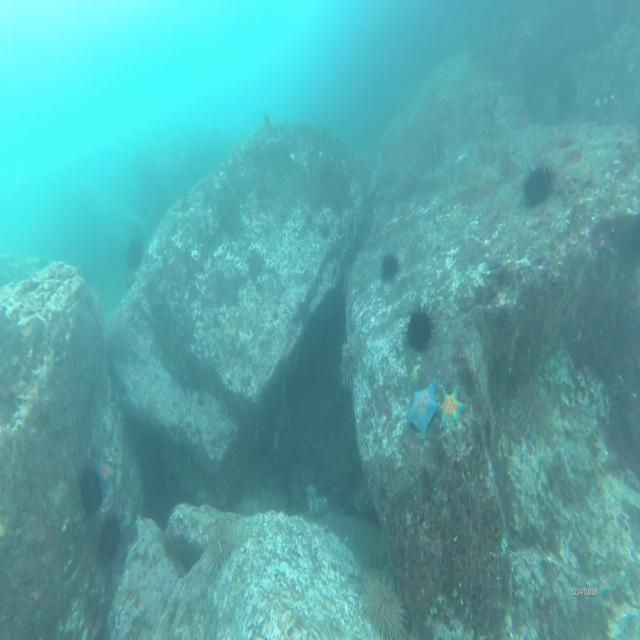echinus: (359, 571, 413, 640), (512, 370, 556, 445), (202, 516, 244, 574), (95, 504, 129, 567), (401, 294, 435, 356), (520, 153, 554, 206), (71, 461, 103, 517), (337, 325, 361, 391), (378, 244, 404, 284), (123, 233, 145, 276)
starfish: (406, 375, 440, 441), (434, 378, 468, 439), (93, 457, 116, 494)
